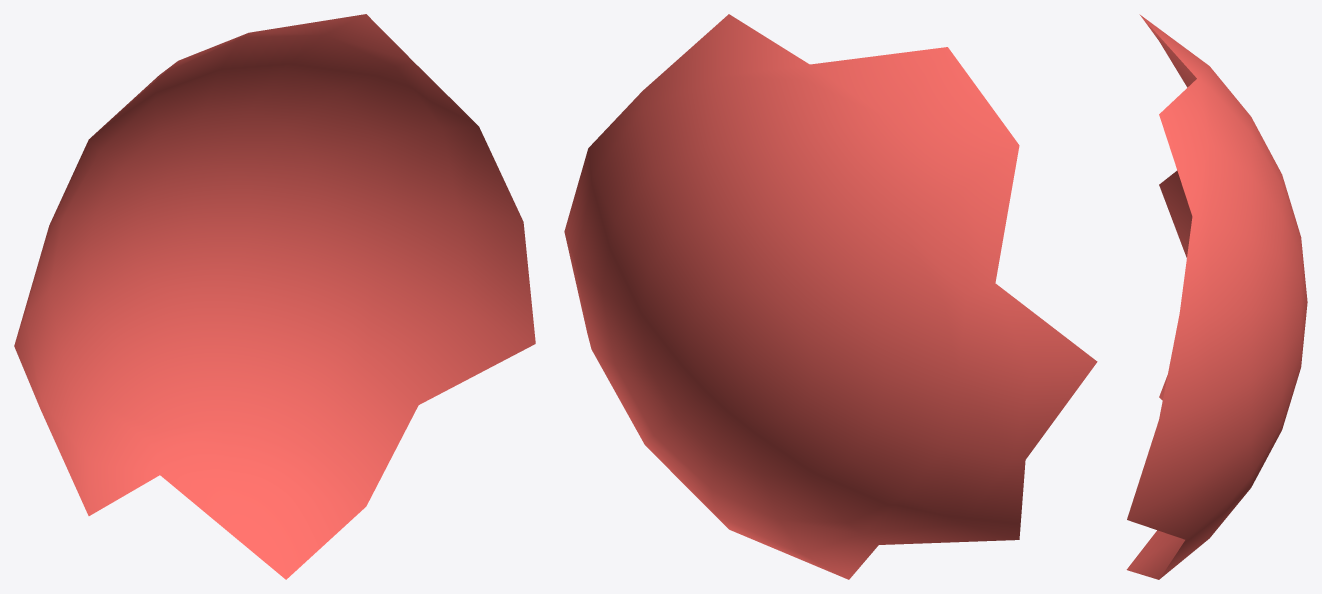
Rendered from SnowCone_Syrup_Red.fbx.
3 renders of one model, left to right at view 1: azimuth 30°, elevation 25°; view 2: azimuth 150°, elevation 25°; view 3: azimuth 270°, elevation 25°, orthographic. The views are drawn at different scales.
Parts seen in each view (by area): view 1: 球; view 2: 球; view 3: 球.
Part boxes in pixels (x1,y1,x2,y2): 球: (14, 14, 535, 579); 球: (564, 14, 1097, 579); 球: (1126, 14, 1307, 579).
Bounding box in the file's own units: 1.64 × 1.66 × 0.5338.
